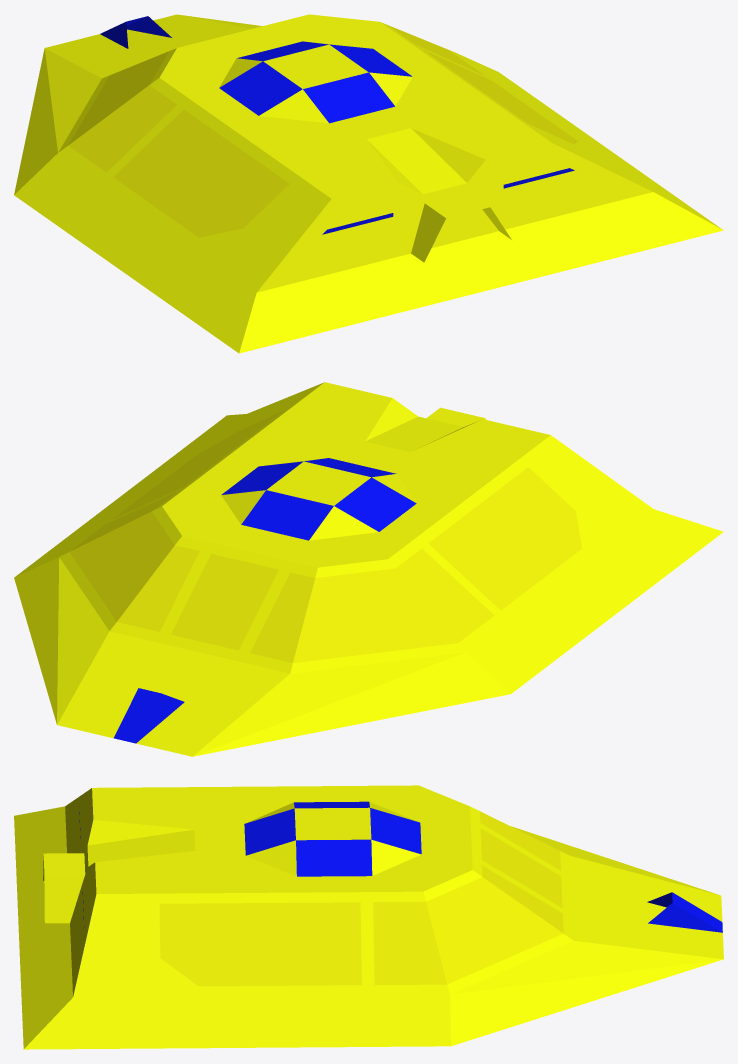
Rendered from body.FBX.
3 renders of one model, top to bottom at view 1: azimuth 30°, elevation 25°; view 2: azimuth 150°, elevation 25°; view 3: azimuth 270°, elevation 25°, orthographic. The views are drawn at different scales.
Parts seen in each view (by area): view 1: VIFS001, VIFS002, VIFS003; view 2: VIFS001, VIFS002, VIFS003; view 3: VIFS001, VIFS002, VIFS003.
Boxes of the visible parts, x1,y1,x2,y2 form: VIFS001: (14,14,723,353); VIFS002: (68,25,578,237); VIFS003: (100,16,574,234); VIFS001: (14,382,723,756); VIFS002: (69,410,582,662); VIFS003: (114,458,416,743); VIFS001: (14,785,723,1049); VIFS002: (159,811,563,986); VIFS003: (79,801,722,932).
Bounding box in the file's own units: 1.59 × 0.3333 × 2.02.
